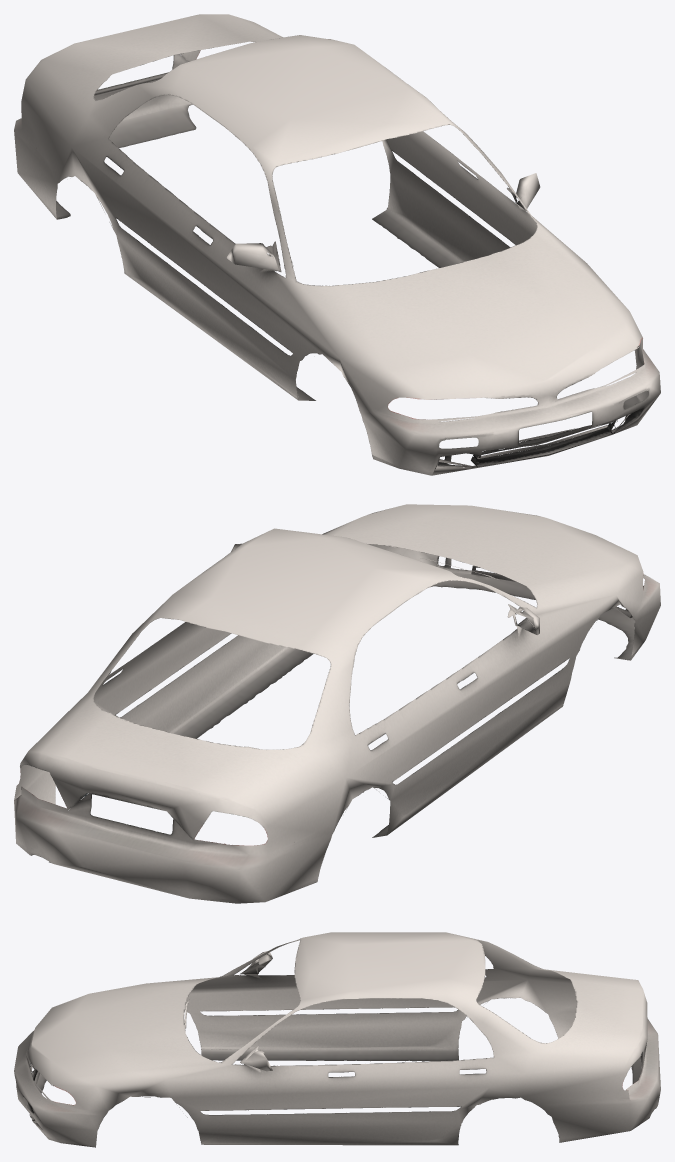
Rendered from mobile_car_0007.fbx.
3 views of the same model, one above another, from view 1: azimuth 30°, elevation 25°; view 2: azimuth 150°, elevation 25°; view 3: azimuth 270°, elevation 25° (orthographic). The views are drawn at different scales.
Parts seen in each view (by area): view 1: Mesh; view 2: Mesh; view 3: Mesh.
Boxes of the visible parts, <box> form: Mesh: <box>14,14,660,475</box>; Mesh: <box>14,504,660,903</box>; Mesh: <box>14,932,660,1147</box>.
Size of the model in its own units: 207 by 126 by 507.
